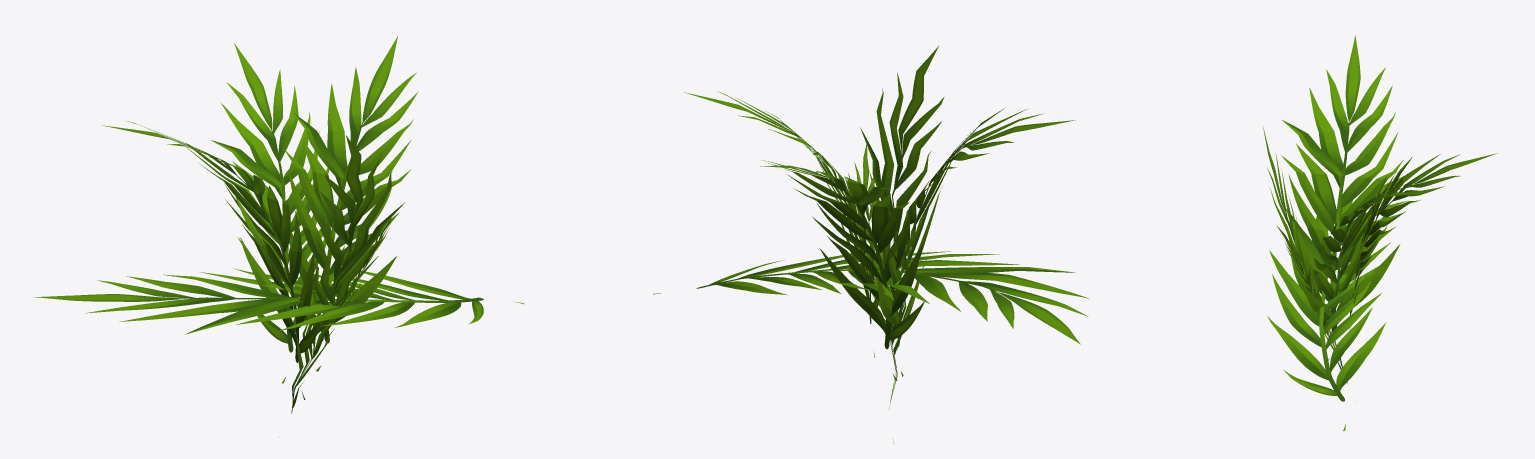
Rendered from fern_plant1.fbx.
3 renders of one model, left to right at view 1: azimuth 30°, elevation 25°; view 2: azimuth 150°, elevation 25°; view 3: azimuth 270°, elevation 25°, orthographic. The views are drawn at different scales.
Parts seen in each view (by area): view 1: Plane.001, Plane, Plane.003; view 2: Plane.001, Plane, Plane.003, Plane.002; view 3: Plane.001, Plane, Plane.003, Plane.002.
Part boxes in pixels (x1,y1,x2,y2): Plane.001: (102, 36, 418, 399); Plane: (34, 268, 524, 334); Plane.003: (291, 135, 405, 413); Plane.001: (684, 91, 1075, 380); Plane: (653, 251, 1089, 344); Plane.003: (860, 46, 944, 443); Plane.002: (845, 142, 897, 349); Plane.001: (1281, 35, 1497, 360); Plane: (1267, 176, 1407, 431); Plane.003: (1263, 126, 1347, 383); Plane.002: (1282, 232, 1328, 332).
Size of the model in its own units: 623 by 413 by 344.
